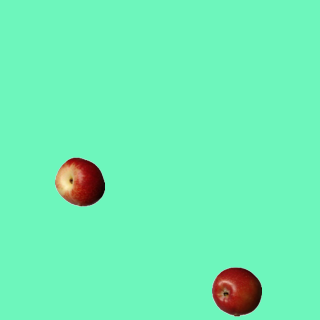Apple Braeburn: (211, 266, 261, 316)
Nectarine: (54, 156, 104, 206)
